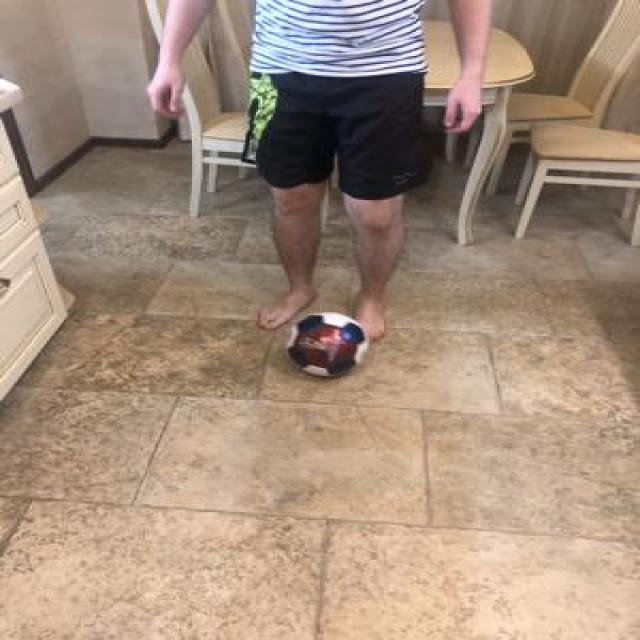ball: (282, 310, 367, 378)
